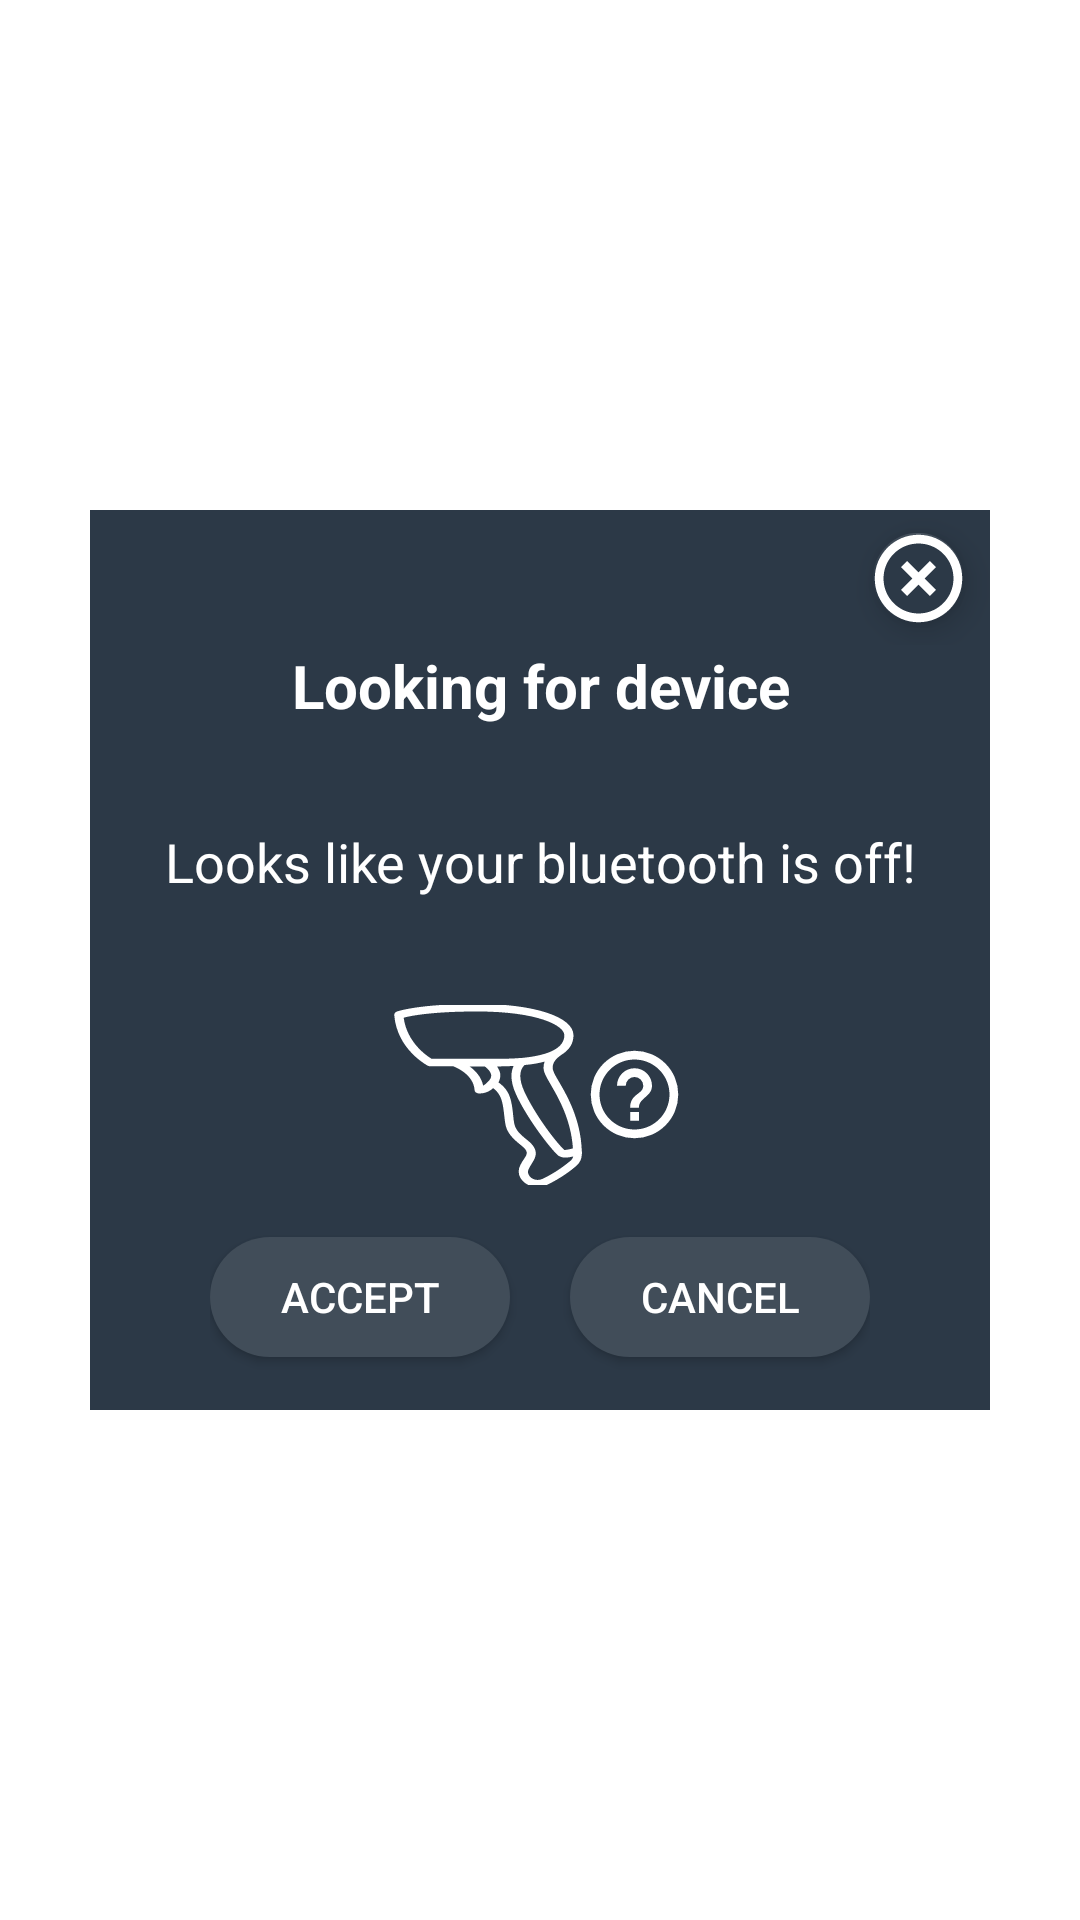

Point at icon controls on the screen. Image size 1080x1920, points as [x,y].
cancel: [918,578]
hand held gun: [488,1095]
question: [634,1094]
